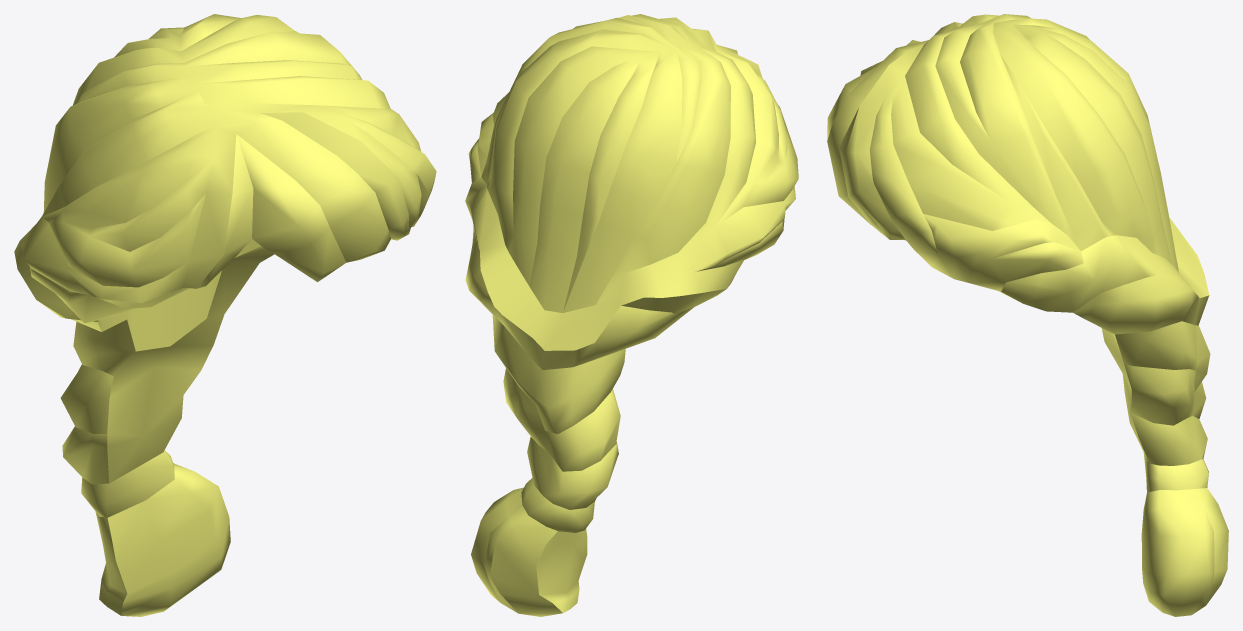
Rendered from HairFrenchBraid.glb.
3 renders of one model, left to right at view 1: azimuth 30°, elevation 25°; view 2: azimuth 150°, elevation 25°; view 3: azimuth 270°, elevation 25°, orthographic. The views are drawn at different scales.
Parts seen in each view (by area): view 1: e:/codex/.cache/ldraw/ldraw/parts/88286.dat; view 2: e:/codex/.cache/ldraw/ldraw/parts/88286.dat; view 3: e:/codex/.cache/ldraw/ldraw/parts/88286.dat.
Part boxes in pixels (bbox=[...]): e:/codex/.cache/ldraw/ldraw/parts/88286.dat: bbox=[14, 14, 436, 616]; e:/codex/.cache/ldraw/ldraw/parts/88286.dat: bbox=[465, 14, 798, 616]; e:/codex/.cache/ldraw/ldraw/parts/88286.dat: bbox=[827, 14, 1228, 616].
Size of the model in its own units: 0.0151 by 0.0254 by 0.0162.
